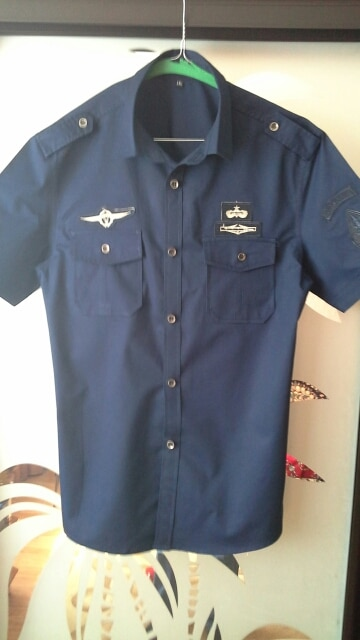shirts: (8, 53, 360, 549)
